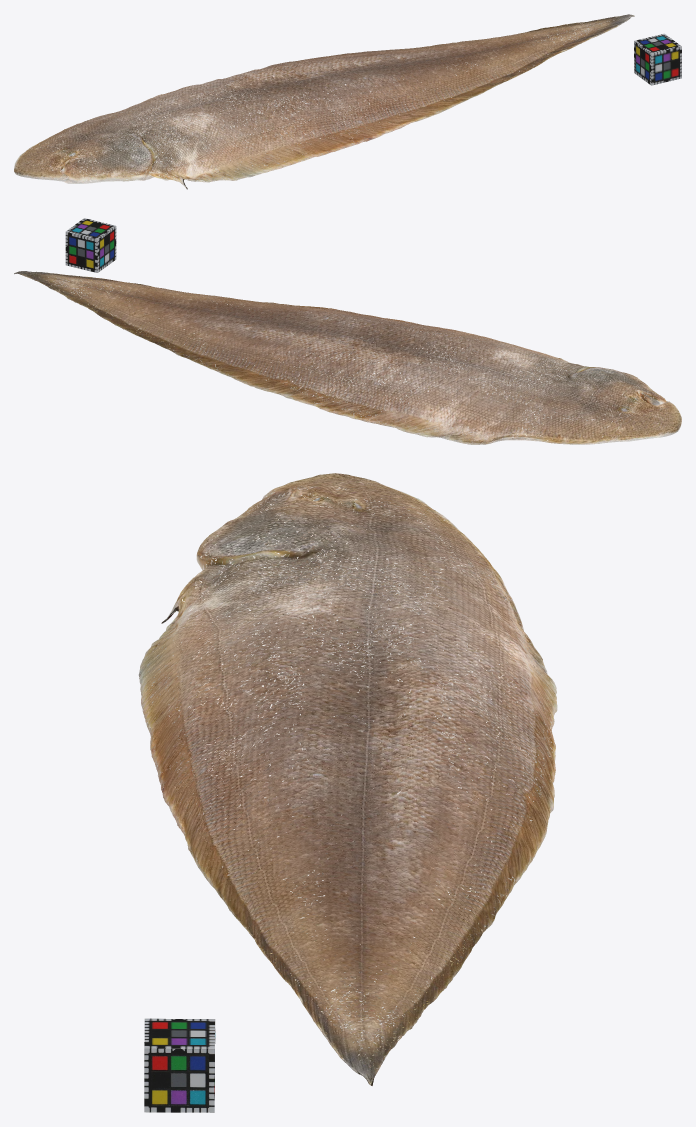
Rendered from scan_sole_threeline.glb.
3 renders of one model, top to bottom at view 1: azimuth 30°, elevation 25°; view 2: azimuth 150°, elevation 25°; view 3: azimuth 270°, elevation 25°, orthographic. The views are drawn at different scales.
Visible parts, largest first — view 1: Object_6, Object_12, Object_4; view 2: Object_6, Object_12, Object_4; view 3: Object_6, Object_12, Object_4.
Part boxes in pixels (x1=…): Object_6: x1=17, y1=14, x2=634, y2=187; Object_12: x1=14, y1=15, x2=625, y2=189; Object_4: x1=634, y1=33, x2=681, y2=85; Object_6: x1=14, y1=271, x2=680, y2=444; Object_12: x1=14, y1=272, x2=681, y2=444; Object_4: x1=65, y1=218, x2=116, y2=272; Object_6: x1=140, y1=474, x2=557, y2=1085; Object_12: x1=138, y1=473, x2=555, y2=1077; Object_4: x1=144, y1=1018, x2=215, y2=1112.
Bounding box in the file's own units: 18.36 × 1.12 × 5.33.
3 materials, 3 textured.
